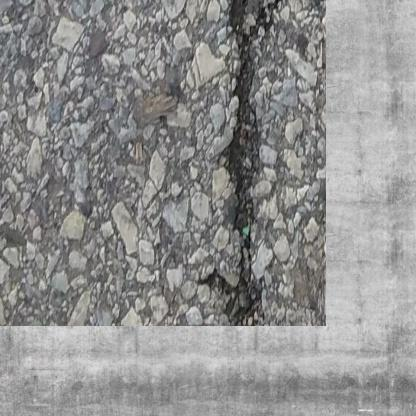Cracks: (176, 0, 301, 301)
